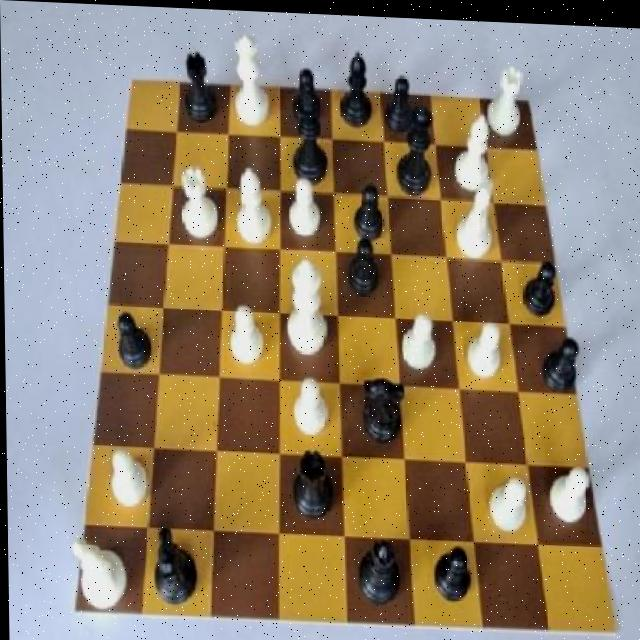bishop: (345, 533, 404, 611), (337, 41, 377, 132)
black-bishop: (286, 78, 329, 187)
black-king: (145, 520, 202, 607), (353, 360, 407, 443)
black-knight: (424, 530, 476, 614), (530, 317, 586, 395), (516, 249, 568, 320), (338, 225, 385, 300), (286, 53, 328, 130), (110, 307, 156, 377), (380, 61, 421, 133), (345, 170, 387, 240)
black-pawn: (389, 97, 439, 197)
black-queen: (285, 444, 340, 526), (177, 45, 220, 130)
black-rook: (444, 103, 494, 192), (225, 160, 275, 242)
white-bishop: (279, 249, 332, 367)
white-king: (67, 528, 129, 621), (445, 172, 500, 259)
white-knight: (542, 447, 595, 535), (481, 461, 531, 539), (461, 309, 509, 382), (107, 439, 151, 518), (394, 296, 439, 370), (222, 298, 264, 374), (291, 364, 333, 433), (283, 170, 324, 236)
white-pawn: (230, 22, 274, 133)
white-queen: (168, 154, 224, 244), (484, 55, 528, 138)
